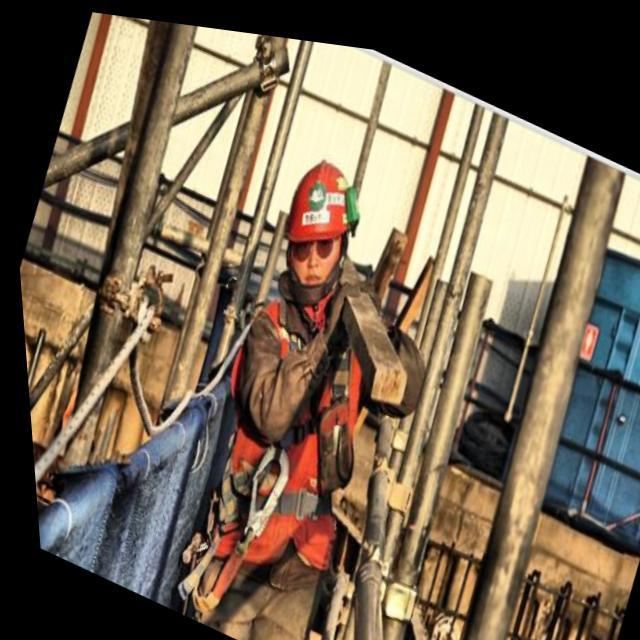belt: (146, 251, 404, 640)
